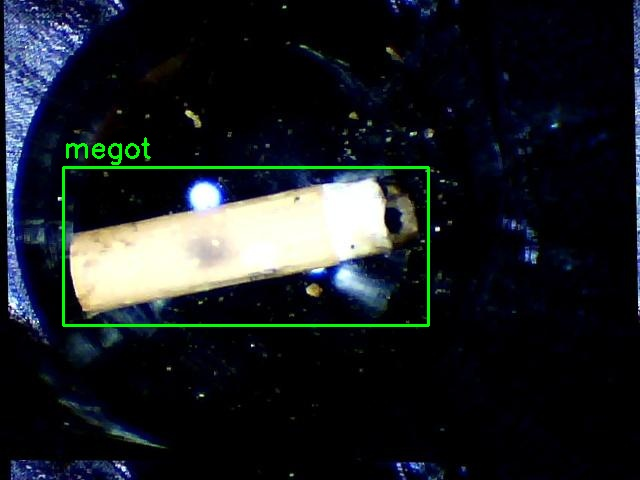megot: (63, 167, 428, 325)
